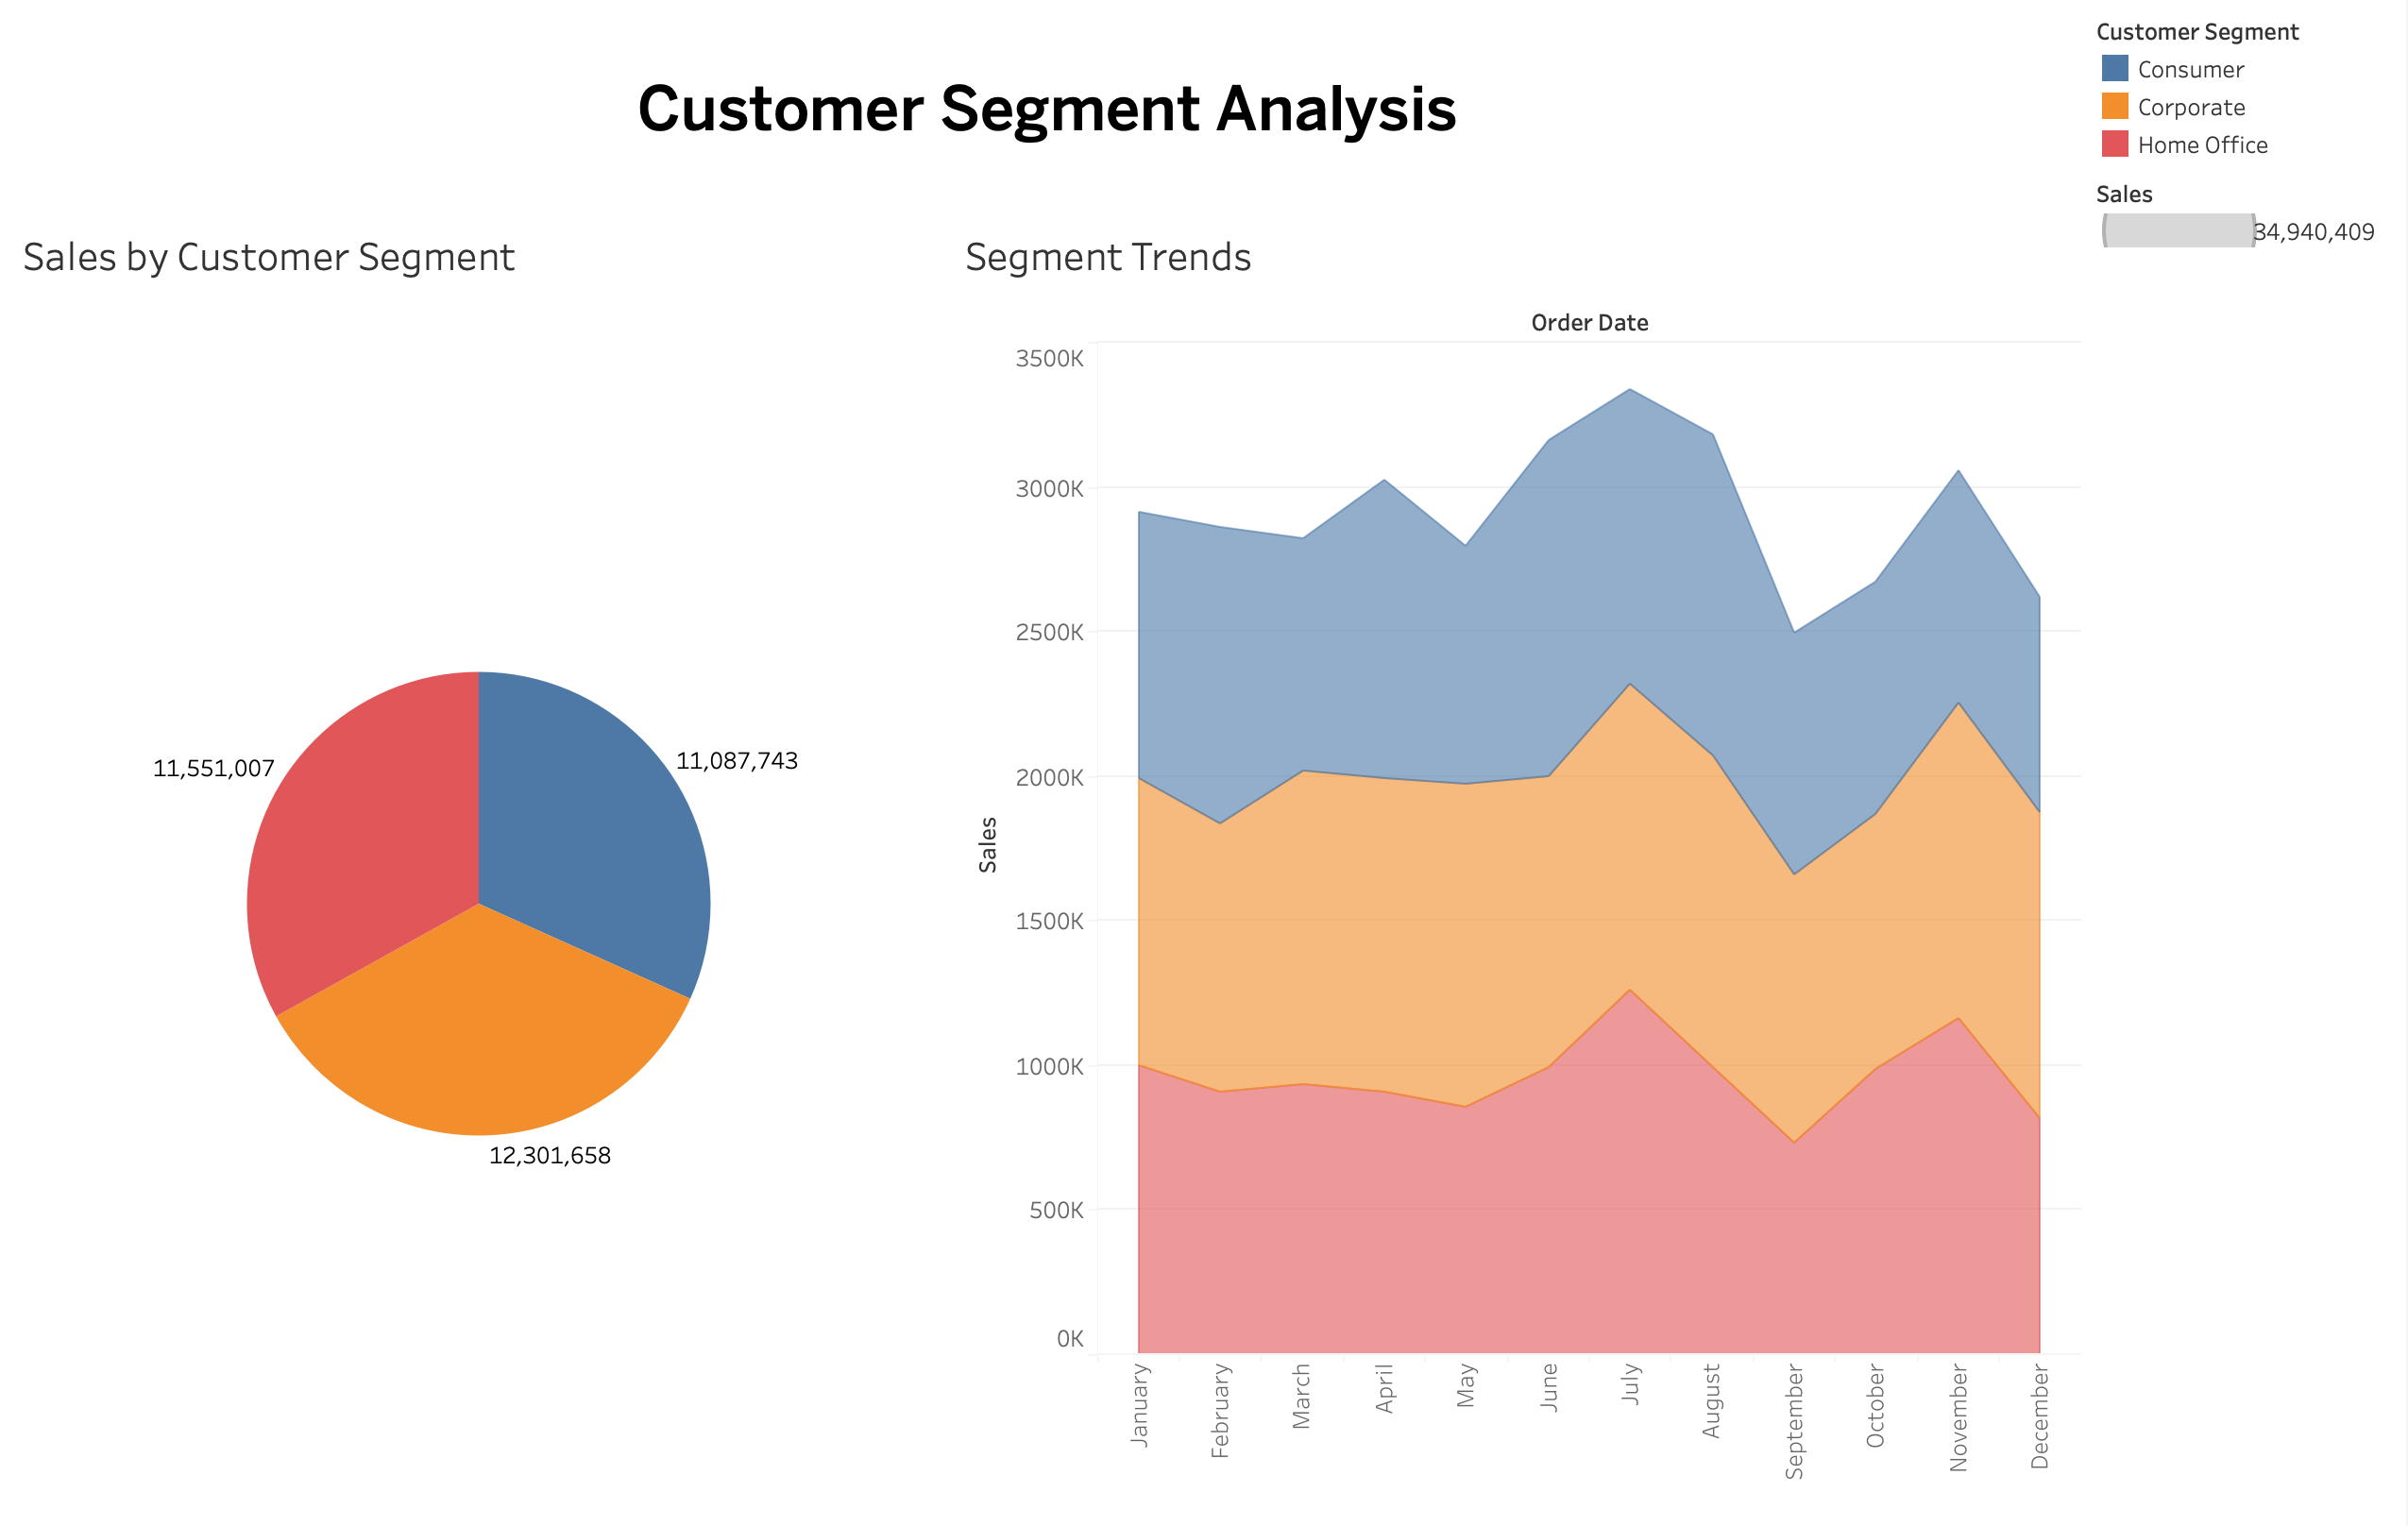

This screenshot's page, from the dashboard's own definition file:
{"tool":"tableau","page":{"name":"4_Customer_Segments","canvas":[1000,1000],"units":"permille","ordinal":3},"visuals":[{"type":"text","box":[6.2,11.3,862.6,133.9]},{"type":"legend","title":"Sales by Customer Segment ","param":"[federated.0rimsko0mqds3k1eb8vza0f691zb].[none:Customer Segment:nk]","box":[868.9,11.3,124.9,121.1]},{"type":"legend","title":"Sales by Customer Segment ","param":"[federated.0rimsko0mqds3k1eb8vza0f691zb].[sum:Sales:qk]","box":[868.9,132.4,124.9,64.8]},{"type":"worksheet","title":"Sales by Customer Segment ","mark":"Pie","box":[6.2,145.2,389.5,843.6]},{"type":"worksheet","title":"Segment Trends ","mark":"Area","rows":["Sales"],"cols":["Order Date"],"box":[395.8,145.2,473,843.6]}]}

Visuals, with their boxes on the dashboard's canvas, which has no fixed pixel size, in thousandths of its width and height (x1, y1, x2, y2). These are canvas units, not pixel positions in the 2408x1526 screenshot, which may show the page scaled, cropped or inside an application window:
text: bbox=[6, 11, 869, 145]
"Sales by Customer Segment " legend: bbox=[869, 11, 994, 132]
"Sales by Customer Segment " legend: bbox=[869, 132, 994, 197]
"Sales by Customer Segment " worksheet (Pie marks): bbox=[6, 145, 396, 989]
"Segment Trends " worksheet (Area marks): bbox=[396, 145, 869, 989]
